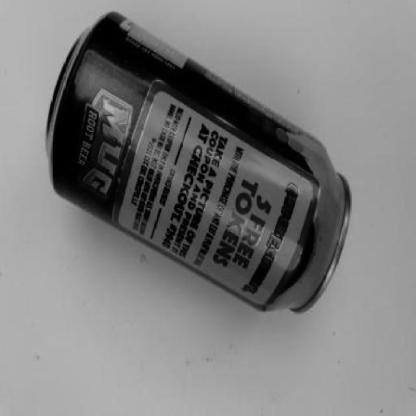alumunium_can: (42, 9, 352, 317)
